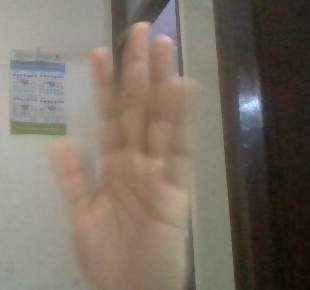move: (53, 17, 251, 289)
